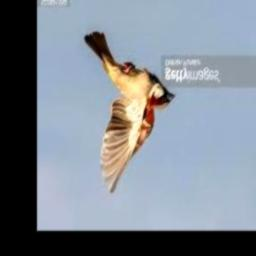Sparrow: (83, 32, 174, 193)
